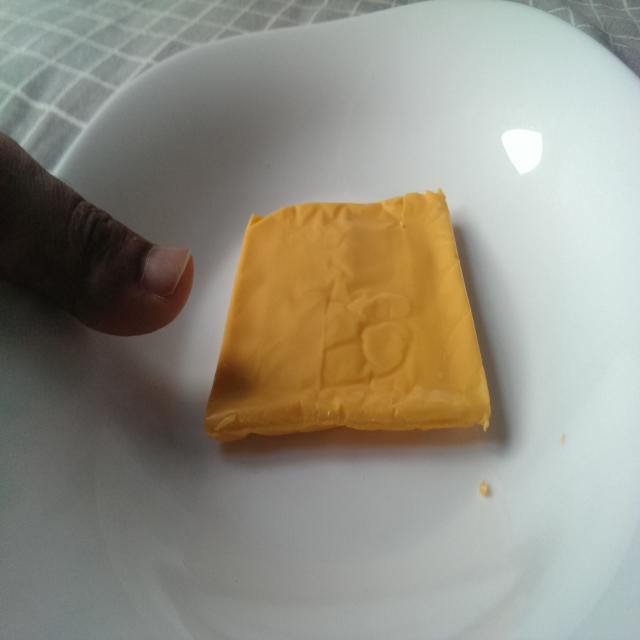Cheese: (200, 176, 510, 458)
Finger: (51, 166, 197, 346)
